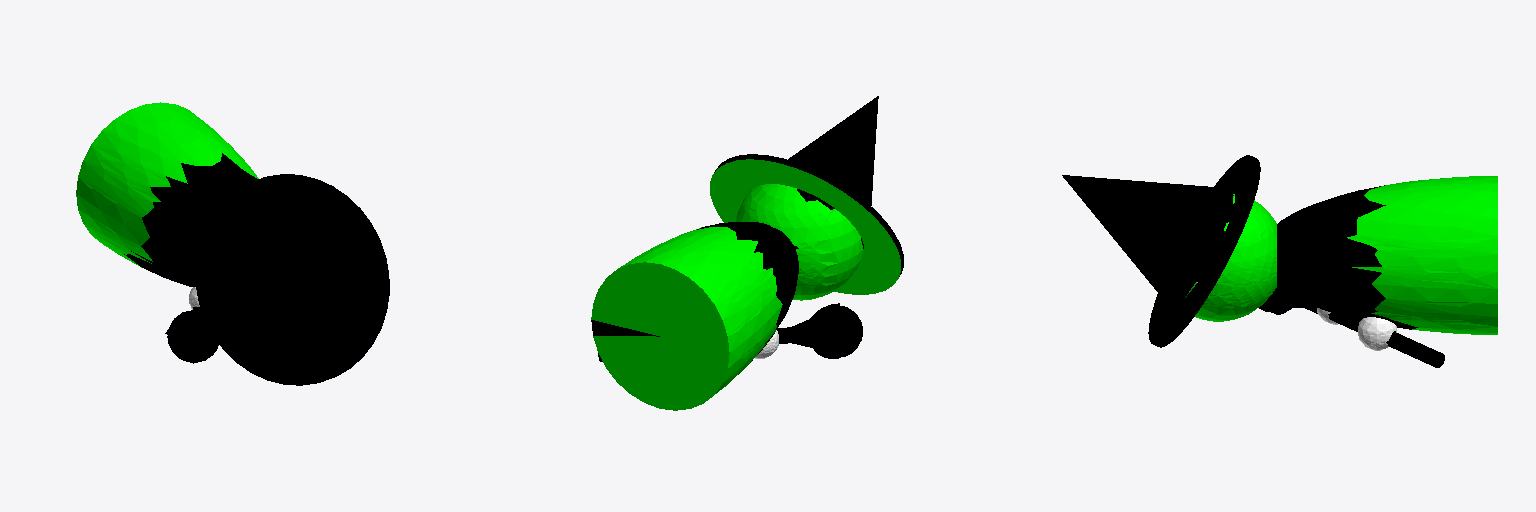
Rendered from GreenPawn.obj.
The picture shows the model from 3 angles: view 1: azimuth 30°, elevation 25°; view 2: azimuth 150°, elevation 25°; view 3: azimuth 270°, elevation 25°; orthographic projection.
Visible parts, largest first — view 1: WizardPawn; view 2: WizardPawn; view 3: WizardPawn.
Part boxes in pixels (bbox=[...]): WizardPawn: bbox=[76, 102, 389, 385]; WizardPawn: bbox=[591, 96, 903, 410]; WizardPawn: bbox=[1062, 155, 1497, 367].
Size of the model in its own units: 14.59 by 13.3 by 29.5.